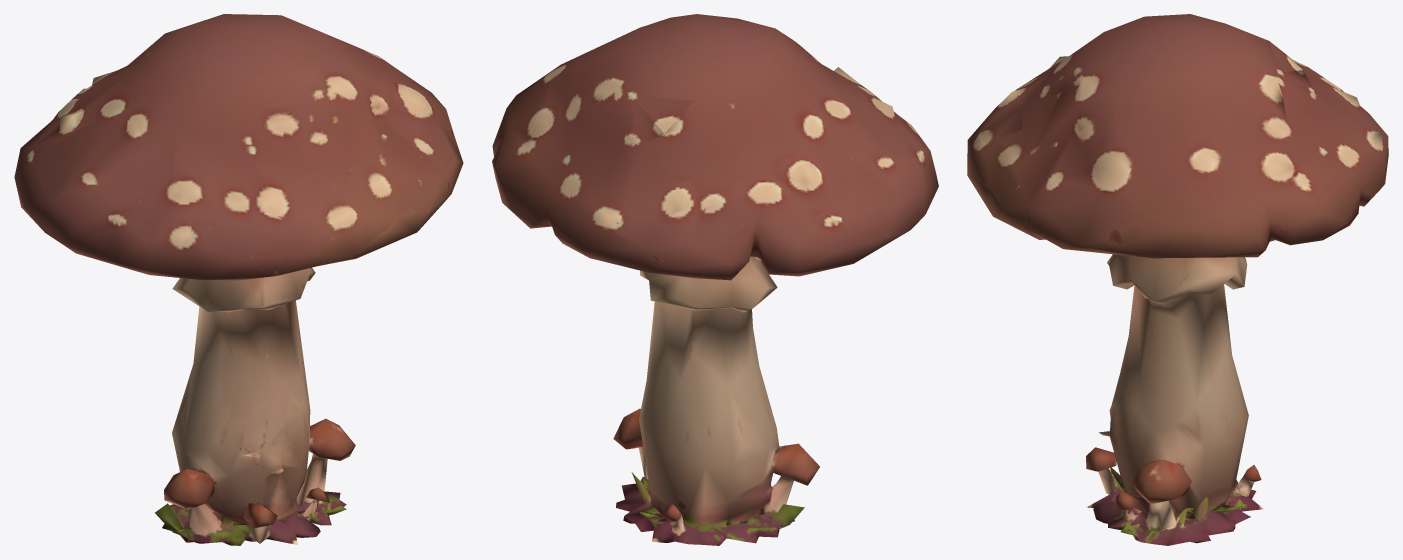
The model's file is dev_mantar_lod1.glb.
The picture shows the model from 3 angles, left to right: view 1: azimuth 30°, elevation 25°; view 2: azimuth 150°, elevation 25°; view 3: azimuth 270°, elevation 25°; orthographic projection.
Visible parts, largest first — view 1: dev_mantar_lod1; view 2: dev_mantar_lod1; view 3: dev_mantar_lod1.
Part boxes in pixels (x1,y1,x2,y2): dev_mantar_lod1: [14, 14, 463, 545]; dev_mantar_lod1: [492, 14, 938, 545]; dev_mantar_lod1: [967, 14, 1388, 545].
Size of the model in its own units: 2.11 by 2.51 by 2.
1 material, 1 textured.
